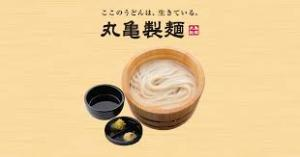kamaage: (120, 44, 207, 133)
